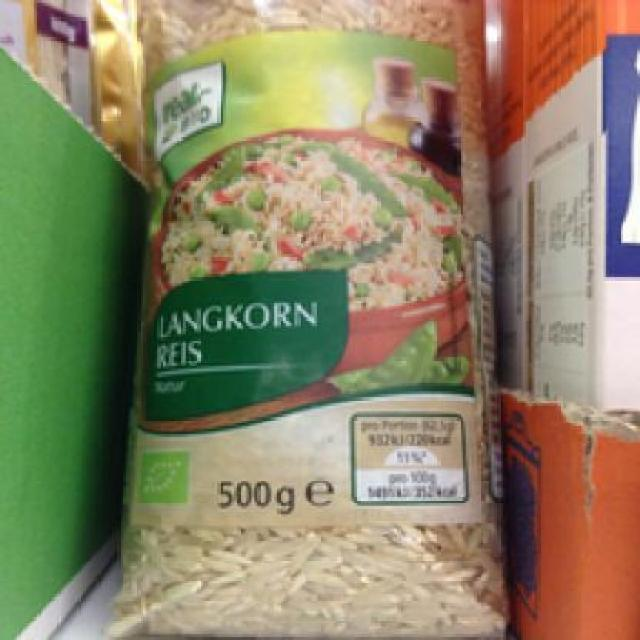Rice: (124, 0, 509, 635)
